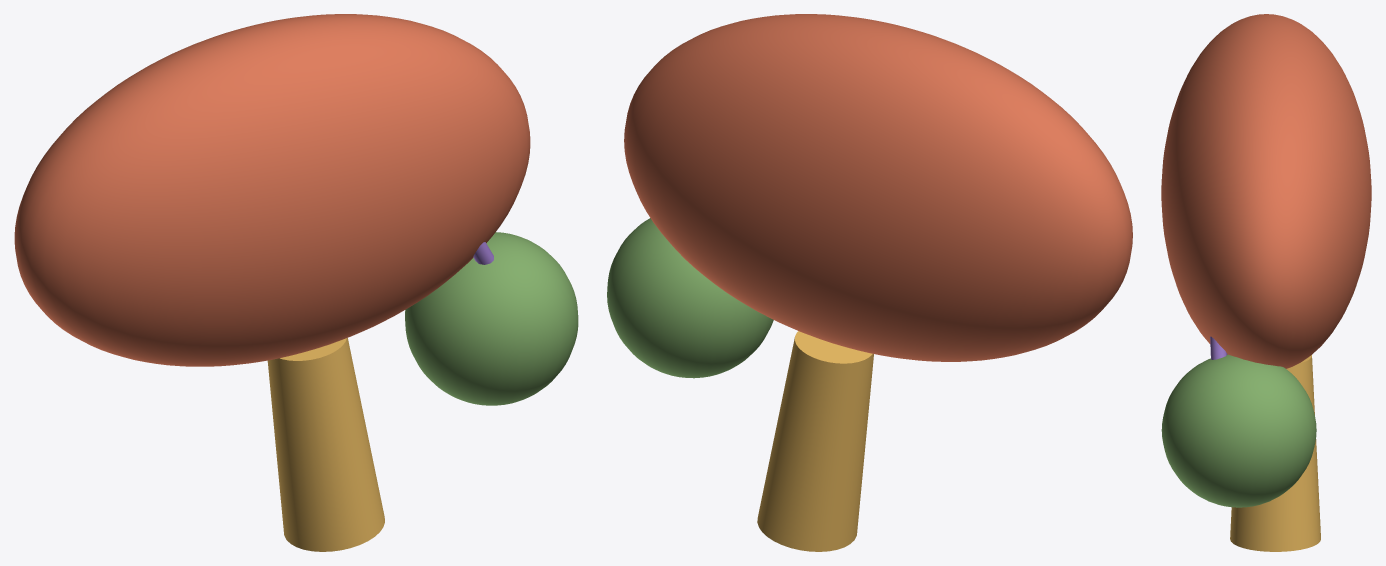
File: biology-neuroscience-brain-regions.glb
The picture shows the model from 3 angles, left to right: view 1: azimuth 30°, elevation 25°; view 2: azimuth 150°, elevation 25°; view 3: azimuth 270°, elevation 25°; orthographic projection. The views are drawn at different scales.
Visible parts, largest first — view 1: brain-cortex-region, cerebellum-region, brainstem-region; view 2: brain-cortex-region, brainstem-region, cerebellum-region; view 3: brain-cortex-region, cerebellum-region, brainstem-region.
Part boxes in pixels (box(x1,y1,x2,y2)): brain-cortex-region: box(14, 14, 530, 366); cerebellum-region: box(405, 232, 578, 405); brainstem-region: box(267, 338, 384, 551); brain-cortex-region: box(624, 14, 1132, 361); brainstem-region: box(757, 331, 873, 551); cerebellum-region: box(607, 218, 773, 378); brain-cortex-region: box(1161, 14, 1371, 368); cerebellum-region: box(1161, 354, 1316, 507); brainstem-region: box(1230, 355, 1320, 551).
Size of what is drawn, in the model's own units: 1.2 by 1.13 by 0.462.
